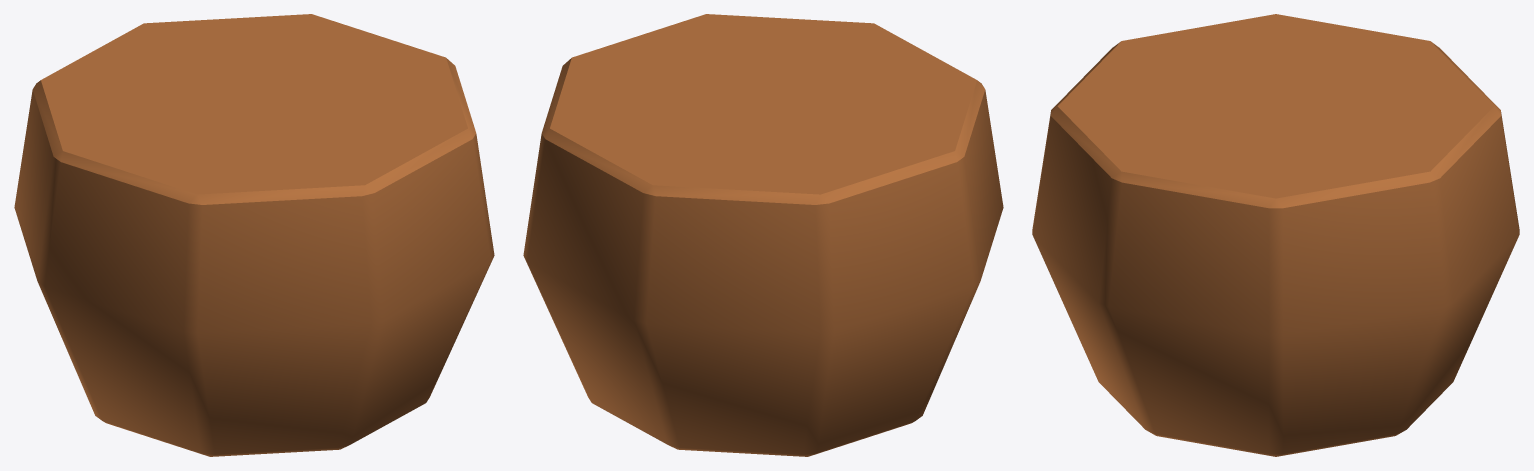
3 renders of one model, left to right at view 1: azimuth 30°, elevation 25°; view 2: azimuth 150°, elevation 25°; view 3: azimuth 270°, elevation 25°, orthographic.
Visible parts, largest first — view 1: PT-copper; view 2: PT-copper; view 3: PT-copper.
Part boxes in pixels (box(x1,y1,x2,y2)): PT-copper: box(14, 14, 494, 456); PT-copper: box(523, 14, 1003, 456); PT-copper: box(1032, 14, 1519, 456).
Size of the model in its own units: 0.3162 by 0.2 by 0.3162.
